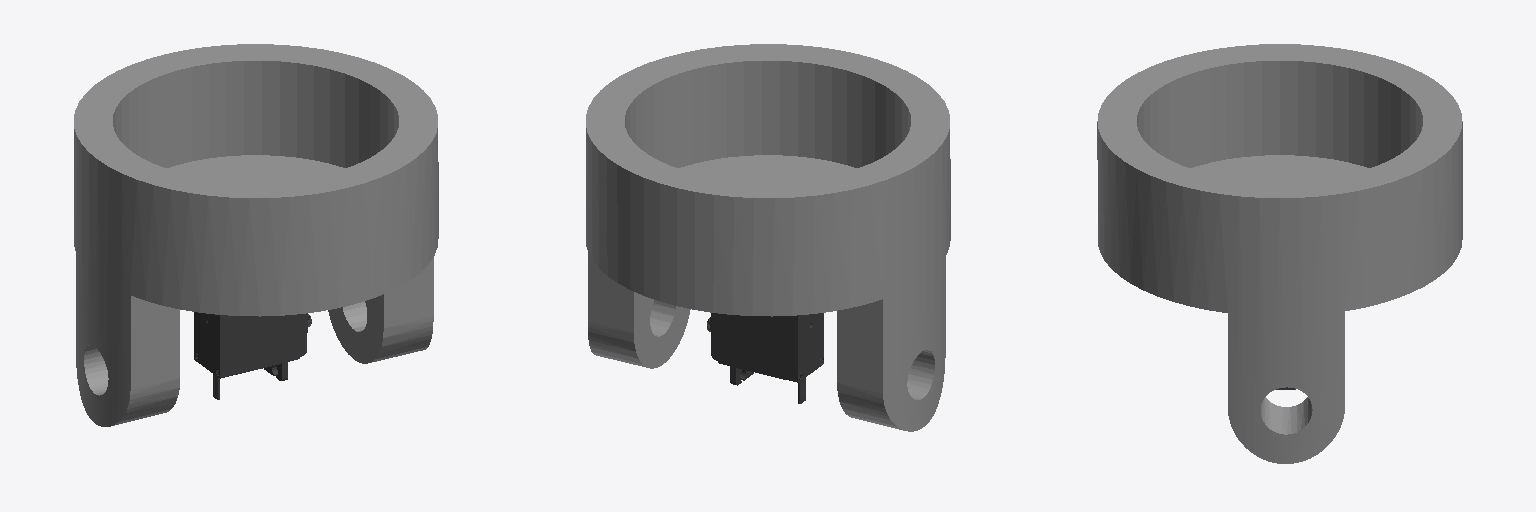
3 views of the same model, side by side, from view 1: azimuth 30°, elevation 25°; view 2: azimuth 150°, elevation 25°; view 3: azimuth 270°, elevation 25° (orthographic).
Visible parts, largest first — view 1: Body1, Body4, Body5; view 2: Body1, Body4, Body6; view 3: Body1.
Part boxes in pixels (bbox=[...]): Body1: bbox=[74, 44, 438, 426]; Body4: bbox=[194, 312, 311, 380]; Body5: bbox=[234, 316, 281, 374]; Body1: bbox=[586, 44, 950, 431]; Body4: bbox=[707, 313, 823, 385]; Body6: bbox=[736, 315, 784, 379]; Body1: bbox=[1097, 44, 1462, 463].
Bounding box in the file's own units: 0.14 × 0.1141 × 0.14.